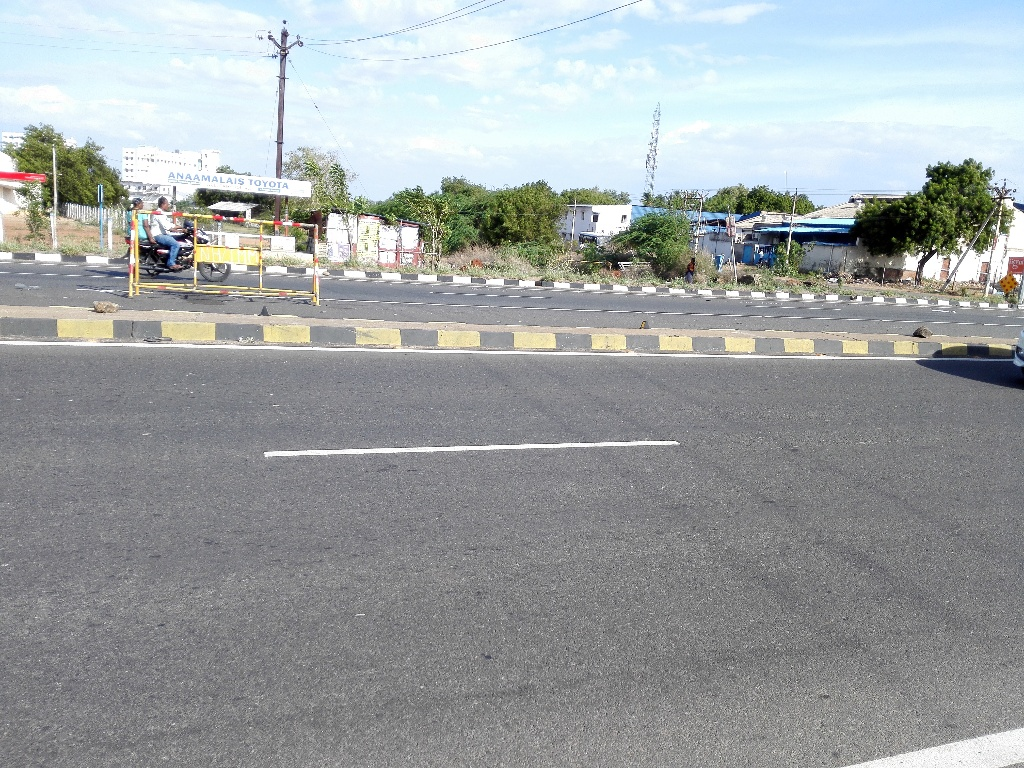biker: (110, 167, 239, 288)
nohelmet: (153, 192, 175, 216), (125, 193, 147, 217)
